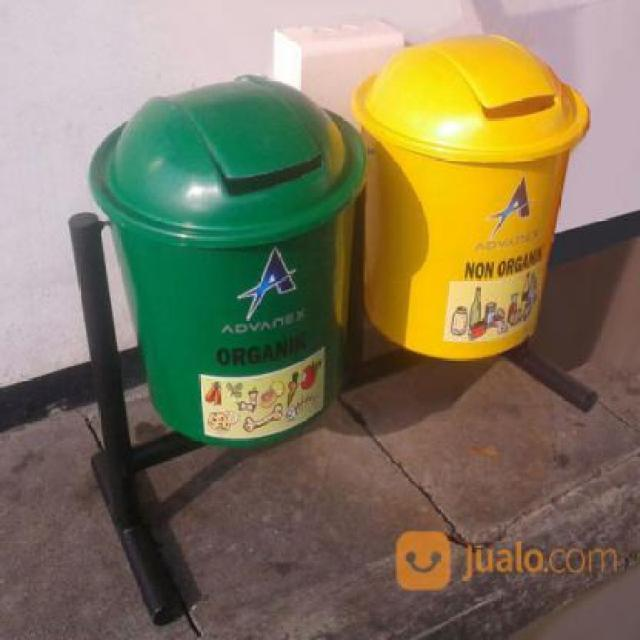garbage container: (80, 61, 374, 461), (354, 28, 597, 381)
